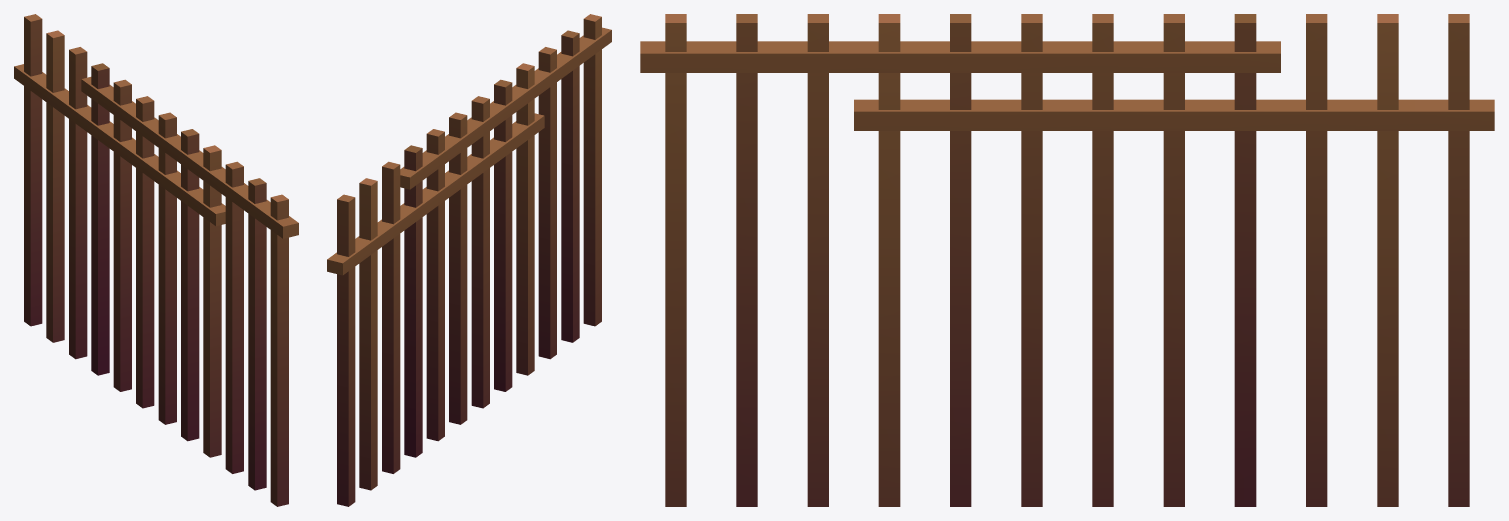
The model's file is TSP_Garden_Wall_Short_01B.fbx.
The picture shows the model from 3 angles, left to right: view 1: azimuth 30°, elevation 25°; view 2: azimuth 150°, elevation 25°; view 3: azimuth 270°, elevation 25°; orthographic projection. The views are drawn at different scales.
Visible parts, largest first — view 1: TSP_Garden_Wall_Short_01B; view 2: TSP_Garden_Wall_Short_01B; view 3: TSP_Garden_Wall_Short_01B.
Boxes of the visible parts, x1,y1,x2,y2 form: TSP_Garden_Wall_Short_01B: (14, 14, 298, 506); TSP_Garden_Wall_Short_01B: (327, 14, 611, 506); TSP_Garden_Wall_Short_01B: (640, 14, 1494, 506).
Size of the model in its own units: 0.135 by 2.5 by 4.
